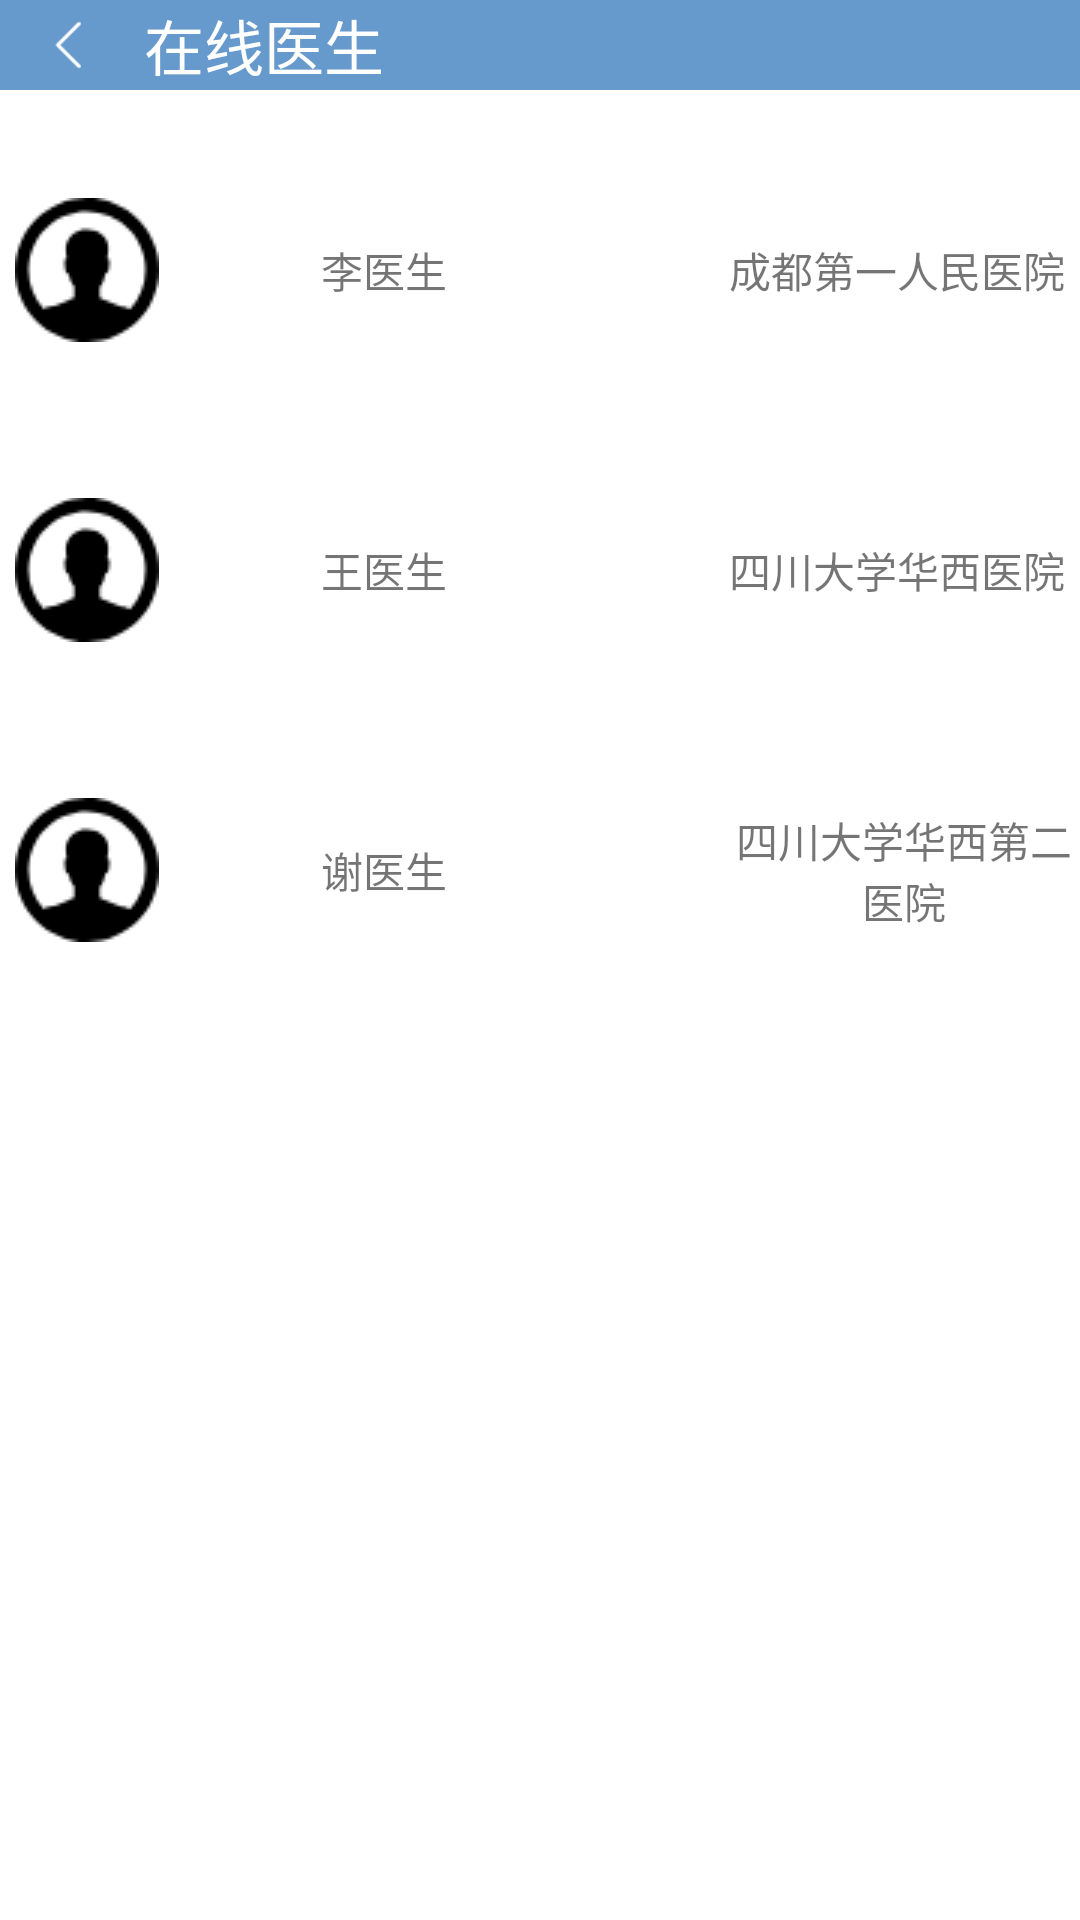

Icon bounding boxes for this 1080 × 1920 phone screenshot, format (x1, y1, x2, y2):
return arrow: (55, 22, 81, 68)
user: (15, 198, 159, 342), (15, 498, 159, 642), (15, 798, 159, 942)
